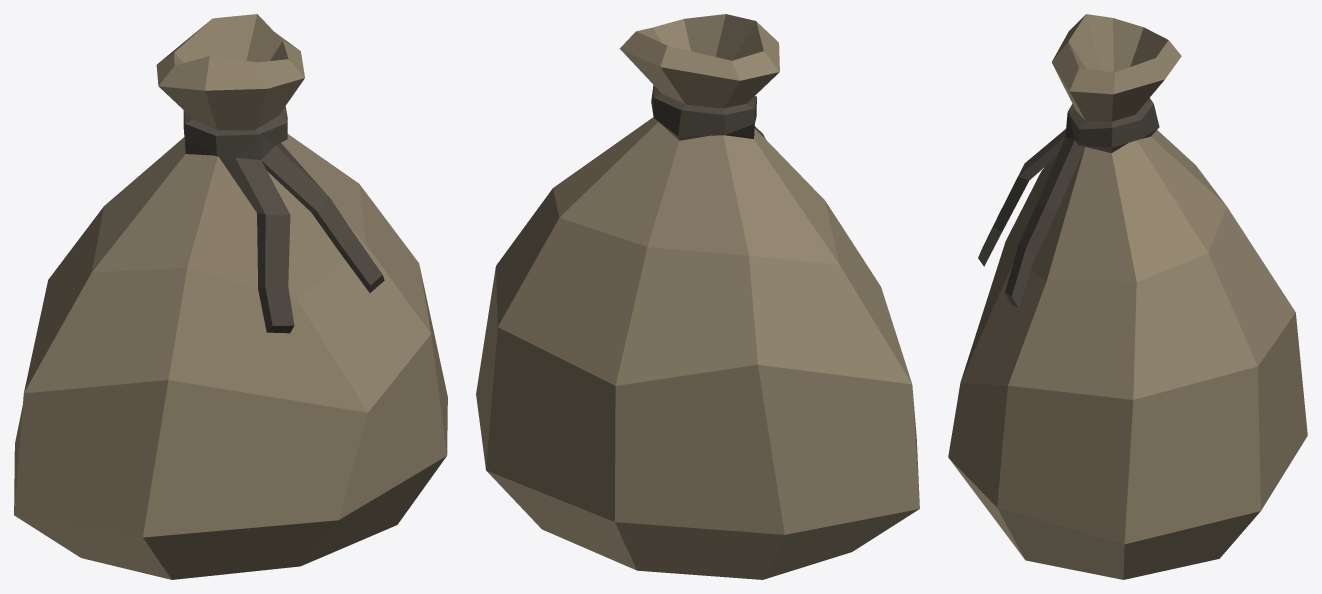
Rendered from Bag_1.fbx.
3 views of the same model, side by side, from view 1: azimuth 30°, elevation 25°; view 2: azimuth 150°, elevation 25°; view 3: azimuth 270°, elevation 25° (orthographic). The views are drawn at different scales.
Parts seen in each view (by area): view 1: Bag_1; view 2: Bag_1; view 3: Bag_1.
Part boxes in pixels (x1,y1,x2,y2): Bag_1: (14, 14, 447, 579); Bag_1: (476, 14, 919, 579); Bag_1: (948, 14, 1307, 579).
Size of the model in its own units: 66.8 by 71.42 by 48.87.
